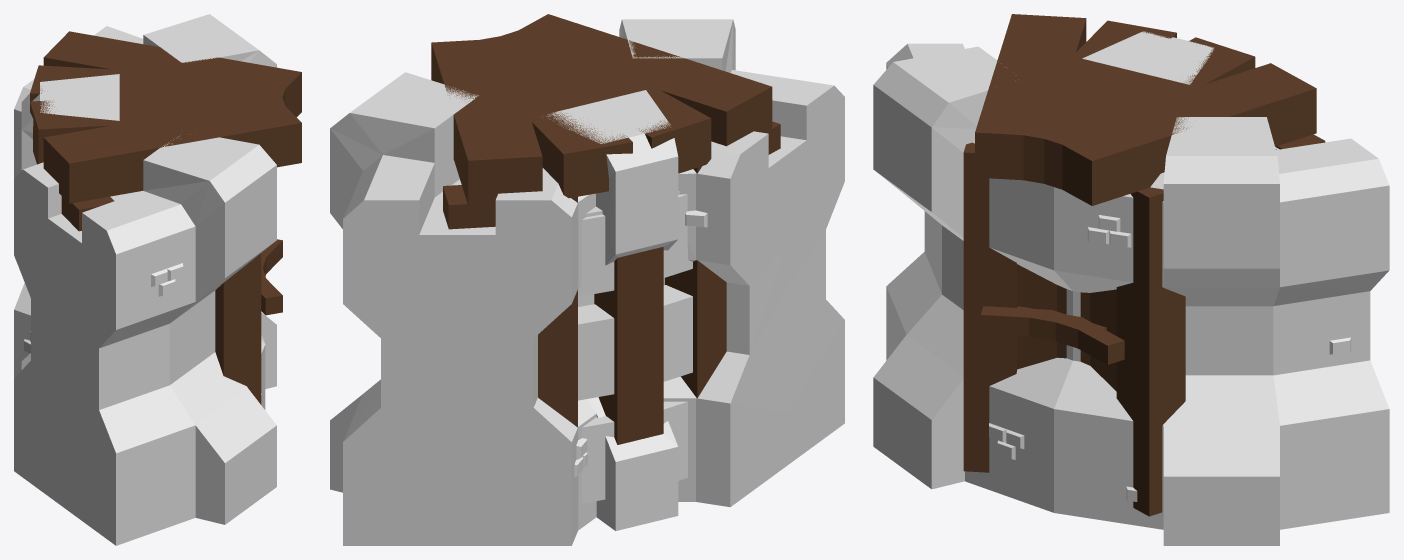
The model's file is SM_CRHex_WallCornerB_Tier1_Wood.fbx.
3 renders of one model, left to right at view 1: azimuth 30°, elevation 25°; view 2: azimuth 150°, elevation 25°; view 3: azimuth 270°, elevation 25°, orthographic. The views are drawn at different scales.
Parts seen in each view (by area): view 1: SM_CRHex_WallCornerB_Tier1_Wood_Core, SM_CRHex_WallCornerB_Tier1_Wood_Accent, SM_CRHex_WallCornerB_Tier1_Wood_StyleRibs; view 2: SM_CRHex_WallCornerB_Tier1_Wood_Core, SM_CRHex_WallCornerB_Tier1_Wood_Accent, SM_CRHex_WallCornerB_Tier1_Wood_StyleRibs, SM_CRHex_WallCornerB_Tier1_Wood_StylePanels; view 3: SM_CRHex_WallCornerB_Tier1_Wood_Core, SM_CRHex_WallCornerB_Tier1_Wood_Accent, SM_CRHex_WallCornerB_Tier1_Wood_StyleRibs.
Boxes of the visible parts, x1,y1,x2,y2 form: SM_CRHex_WallCornerB_Tier1_Wood_Core: (14,14,276,545); SM_CRHex_WallCornerB_Tier1_Wood_Accent: (30,31,301,315); SM_CRHex_WallCornerB_Tier1_Wood_StyleRibs: (61,196,261,404); SM_CRHex_WallCornerB_Tier1_Wood_Core: (330,19,844,545); SM_CRHex_WallCornerB_Tier1_Wood_Accent: (431,14,772,205); SM_CRHex_WallCornerB_Tier1_Wood_StyleRibs: (443,121,780,444); SM_CRHex_WallCornerB_Tier1_Wood_StylePanels: (578,194,692,503); SM_CRHex_WallCornerB_Tier1_Wood_Core: (873,31,1389,545); SM_CRHex_WallCornerB_Tier1_Wood_Accent: (975,14,1316,364); SM_CRHex_WallCornerB_Tier1_Wood_StyleRibs: (963,60,1325,516).
Bounding box in the file's own units: 0.964 × 1.1 × 1.35.
